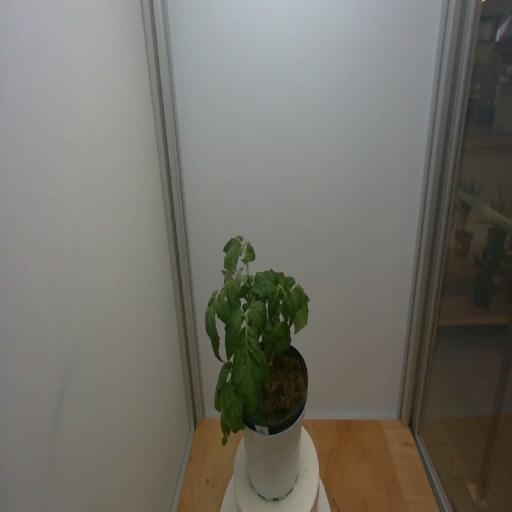Tomato-Leaves-Cupboard-: (235, 326, 269, 416), (204, 303, 228, 363), (261, 316, 296, 356), (224, 378, 247, 438), (289, 276, 310, 338), (222, 310, 245, 363), (212, 361, 234, 410), (254, 268, 285, 298), (282, 285, 302, 324), (248, 296, 267, 332), (223, 278, 241, 312), (266, 288, 282, 325), (213, 292, 230, 326), (222, 244, 240, 274), (217, 413, 232, 448), (221, 234, 244, 254), (242, 239, 256, 262), (219, 265, 232, 284), (208, 290, 218, 309)
